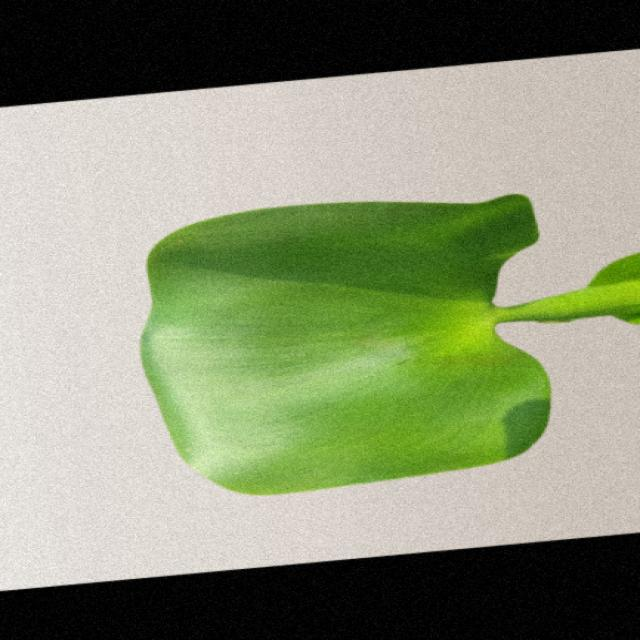daun sehat: (142, 195, 638, 494)
